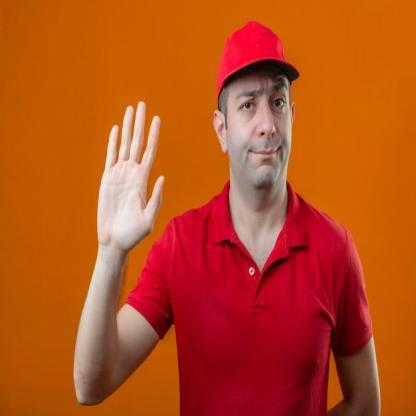stop: (94, 98, 166, 256)
